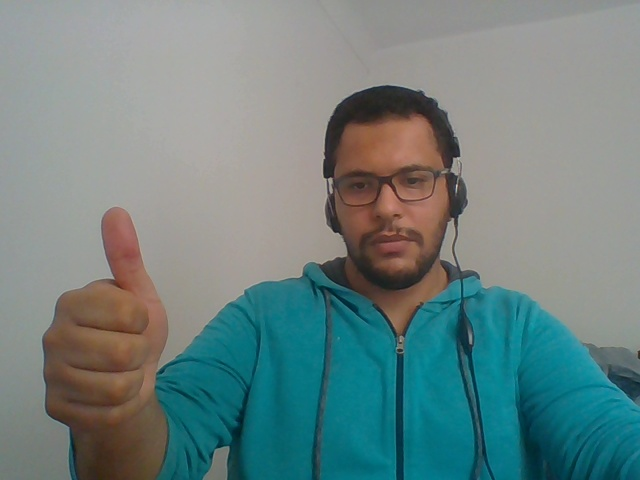ok: (27, 194, 192, 458)
